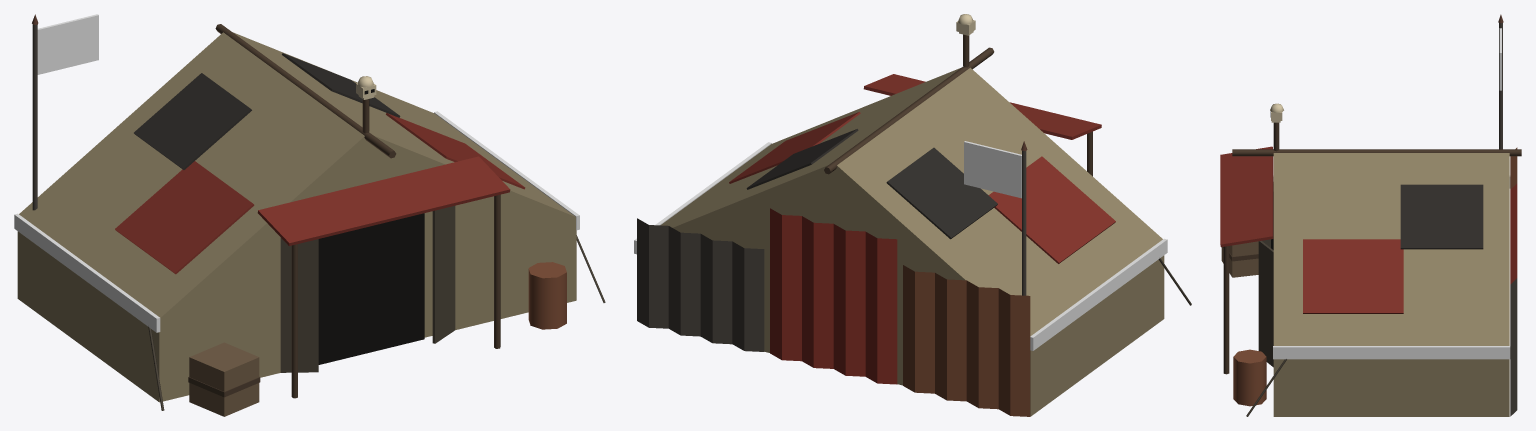
The picture shows the model from 3 angles, left to right: view 1: azimuth 30°, elevation 25°; view 2: azimuth 150°, elevation 25°; view 3: azimuth 270°, elevation 25°; orthographic projection. The views are drawn at different scales.
Visible parts, largest first — view 1: raider_building_tent; view 2: raider_building_tent; view 3: raider_building_tent.
Part boxes in pixels (box(x1,y1,x2,y2)): raider_building_tent: box(14, 14, 605, 416); raider_building_tent: box(634, 14, 1191, 416); raider_building_tent: box(1220, 14, 1521, 416).
Size of the model in its own units: 7.24 by 4.45 by 5.1.
